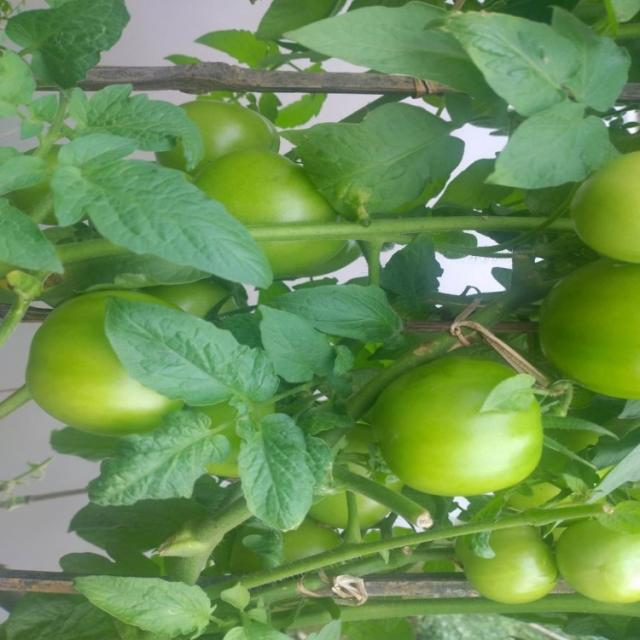tomato: (378, 350, 551, 497), (202, 149, 360, 287), (28, 292, 175, 431), (526, 257, 640, 400), (455, 512, 563, 604), (559, 507, 640, 609), (571, 152, 640, 269), (165, 94, 279, 161), (312, 483, 389, 538)
